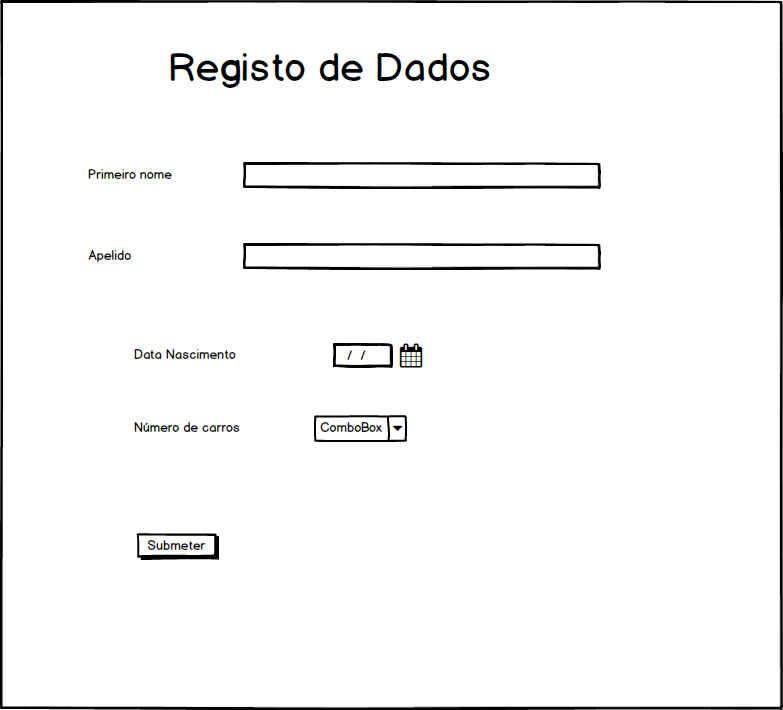button: (130, 586, 218, 621)
date_picker: (327, 337, 427, 374)
h1: (163, 47, 501, 94)
input: (239, 238, 609, 275), (238, 158, 607, 193)
label: (81, 159, 184, 190), (127, 343, 239, 367), (131, 419, 245, 440), (85, 243, 135, 270)
select_box: (309, 410, 416, 447)
